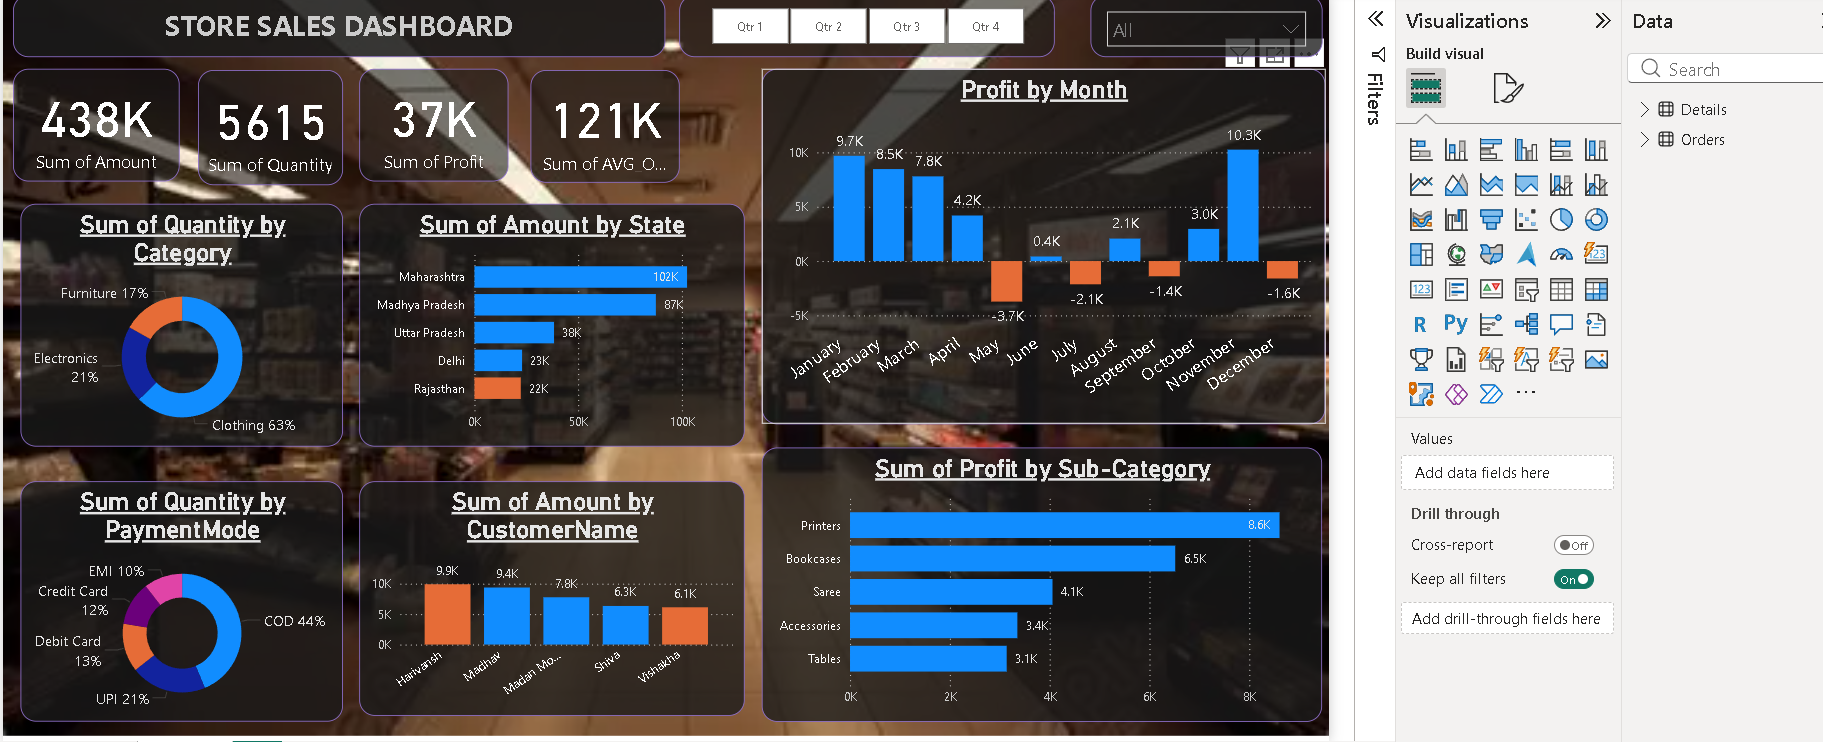

What the dashboard file says about the page in this screenshot:
{"tool":"powerbi","page":{"name":"Page 1","canvas":[1280,720],"ordinal":0},"visuals":[{"type":"textbox","box":[9.6,0,629.8,60.4],"z":0},{"type":"columnChart","title":"Profit by Month","fields":{"Y":["Sum(Details.Profit)"],"Category":["Orders.Order Date.Variation.Date Hierarchy.Month"]},"box":[732.8,71.4,544,343],"z":1},{"type":"barChart","fields":{"Category":["Details.Sub-Category"],"Y":["Sum(Details.Profit)"]},"box":[732.8,436.4,540.7,264.8],"z":2},{"type":"donutChart","fields":{"Category":["Details.Category"],"Y":["Sum(Details.Quantity)"]},"box":[16.5,201.7,311.5,234.6],"z":3},{"type":"donutChart","fields":{"Y":["Sum(Details.Quantity)"],"Category":["Details.PaymentMode"]},"box":[16.5,469.3,311.5,231.9],"z":4},{"type":"card","fields":{"Values":["Sum(Details.Amount)"]},"box":[9.6,71.4,160.5,108.4],"z":5},{"type":"card","fields":{"Values":["Sum(Details.Quantity)"]},"box":[188,72.7,140,111.1],"z":6},{"type":"card","fields":{"Values":["Sum(Details.Profit)"]},"box":[344.4,71.4,144.1,108.4],"z":7},{"type":"card","fields":{"Values":["Sum(Details.AVG_ORDEER_VAL)"]},"box":[509.1,72.7,144.1,108.4],"z":8},{"type":"barChart","fields":{"Y":["Sum(Details.Amount)"],"Category":["Orders.State"]},"box":[344.4,201.7,371.9,234.6],"z":10},{"type":"columnChart","fields":{"Category":["Orders.CustomerName"],"Y":["Sum(Details.Amount)"]},"box":[344.4,469.3,371.9,226.4],"z":11},{"type":"slicer","fields":{"Values":["Orders.Order Date.Variation.Date Hierarchy.Quarter"]},"box":[653.2,0,362.3,60.4],"z":12},{"type":"slicer","fields":{"Values":["Orders.State"]},"box":[1049.7,0,223.7,60.4],"z":13}]}

Visuals, with their boxes in screenshot pixels (x1, y1, x2, y2):
textbox: 0:0:658:54
"Profit by Month" columnChart: 756:66:1329:426
barChart - Details.Sub-Category x Sum(Details.Profit): 756:449:1325:728
donutChart - Details.Category x Sum(Details.Quantity): 3:203:331:449
donutChart - Sum(Details.Quantity) x Details.PaymentMode: 3:484:331:728
card - Sum(Details.Amount): 0:66:165:180
card - Sum(Details.Quantity): 183:67:331:184
card - Sum(Details.Profit): 348:66:500:180
card - Sum(Details.AVG_ORDEER_VAL): 521:67:673:181
barChart - Sum(Details.Amount) x Orders.State: 348:203:739:449
columnChart - Orders.CustomerName x Sum(Details.Amount): 348:484:739:722
slicer - Orders.Order Date.Variation.Date Hierarchy.Quarter: 673:0:1054:54
slicer - Orders.State: 1090:0:1325:54
